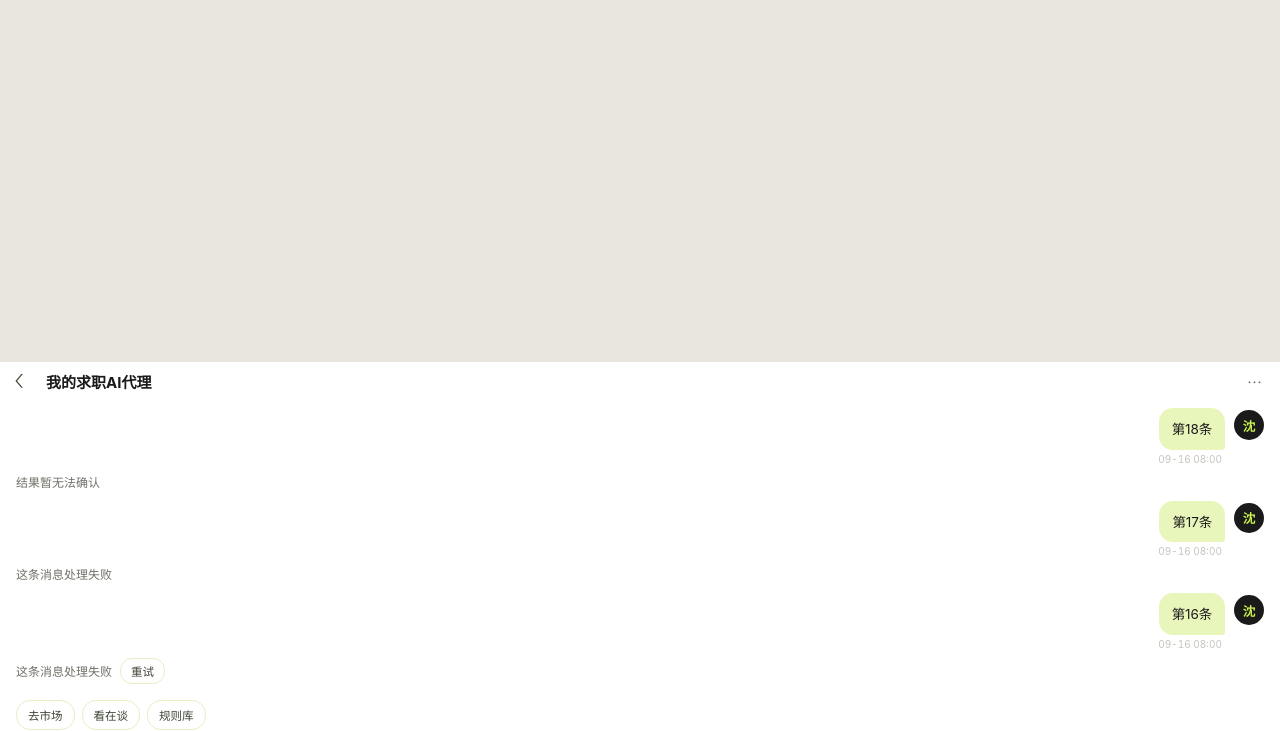
Test: 问AI代理 · Backend 真实聊天接线（use助手会话） › 失败/重试条件：只有 failed && retryable 出重试；uncertain 不自动重跑；重试原位替换
This screenshot has width=1280, height=731.
(page scrolled)
Check: the text "这条消息处理失败" is shown 2 times, box top-left (16, 567), bottom-right (112, 582); top-left (16, 658), bottom-right (165, 684)
Check: the text "结果暂无法确认" is shown, box top-left (16, 475), bottom-right (100, 490)
What coordinates should you click on to do the following:
click the button "重试"
I would click on:
 (142, 671)
Its box is top-left (120, 658), bottom-right (165, 684).
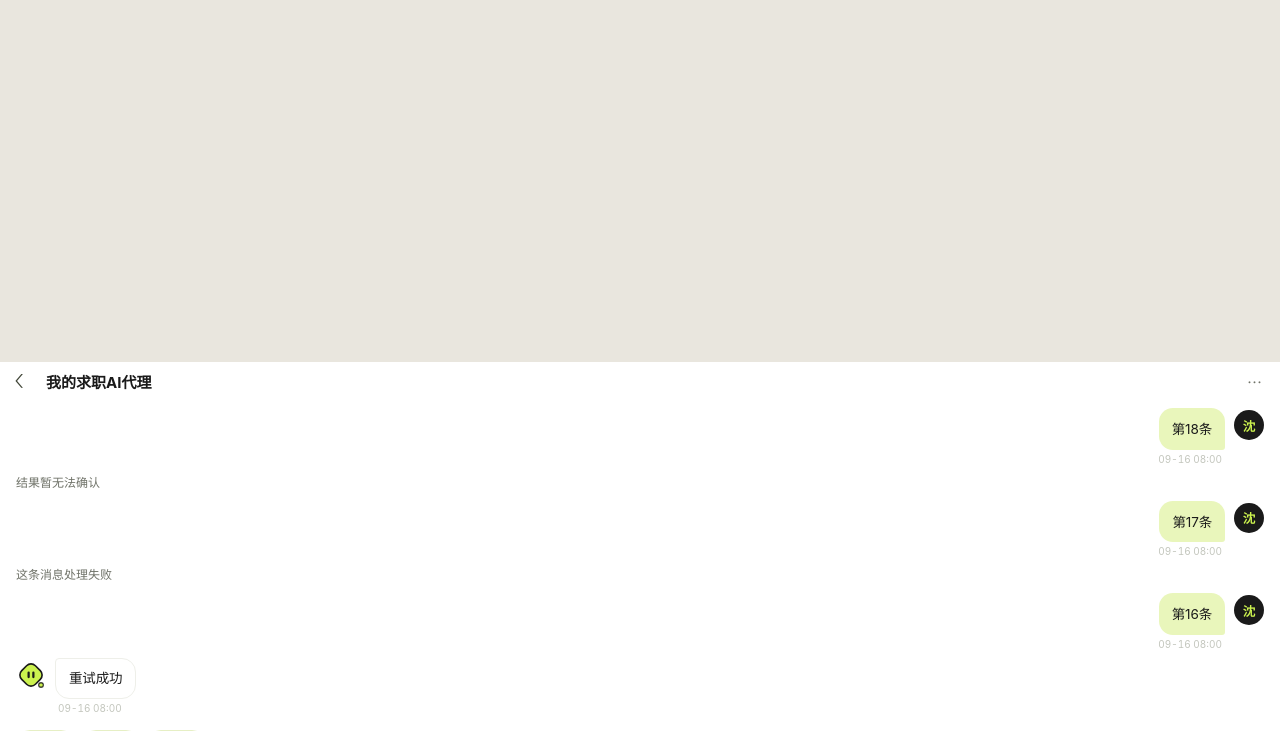
Check: the text "重试成功" is shown, box top-left (69, 669), bottom-right (122, 688)
